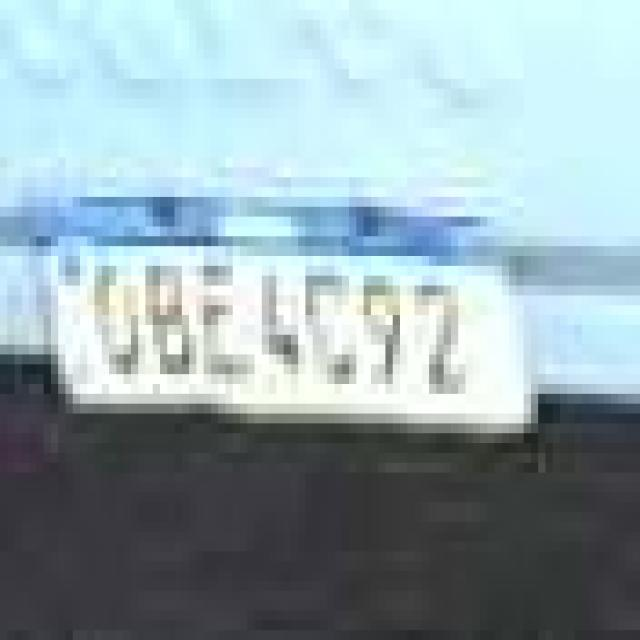4: (256, 266, 306, 384)
7: (412, 274, 466, 394)
9: (357, 269, 409, 385)
B: (141, 253, 189, 382)
E: (191, 259, 250, 381)
O: (92, 255, 140, 384)
Z: (303, 263, 355, 388)
